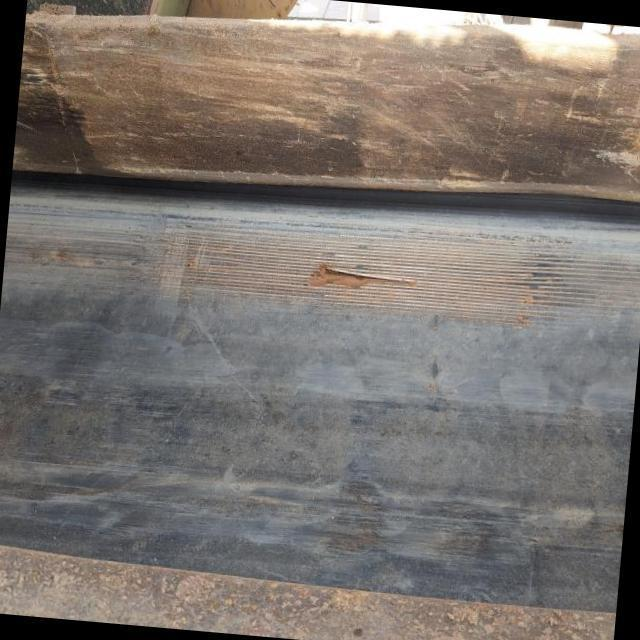Wear: (0, 190, 640, 330)
